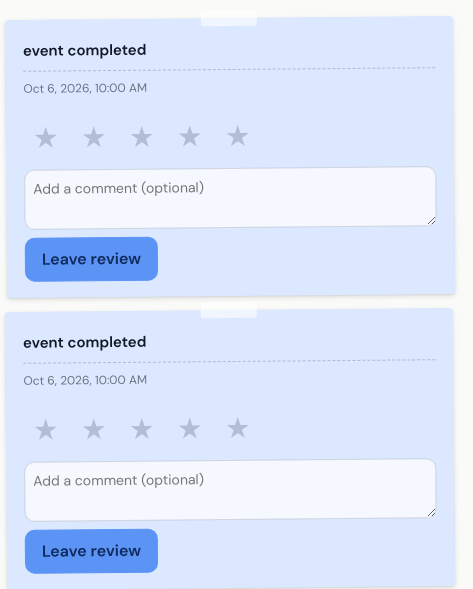
Test: TaskEventMessage › offers both people a review once the gig is complete, comment optional
This screenshot has width=473, height=589.
(page scrolled)
Click the 9th radio button with class "star": (190, 429) [168,407,212,452]
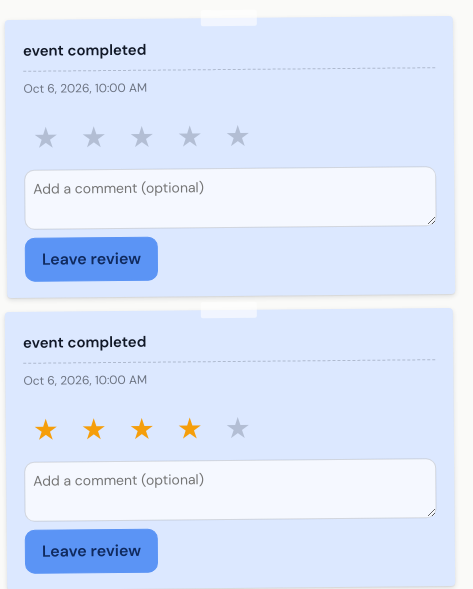
Submit the 2nd form "★ ★ ★ ★ ★ Leave review", box [24,405,437,573]
(page scrolled)
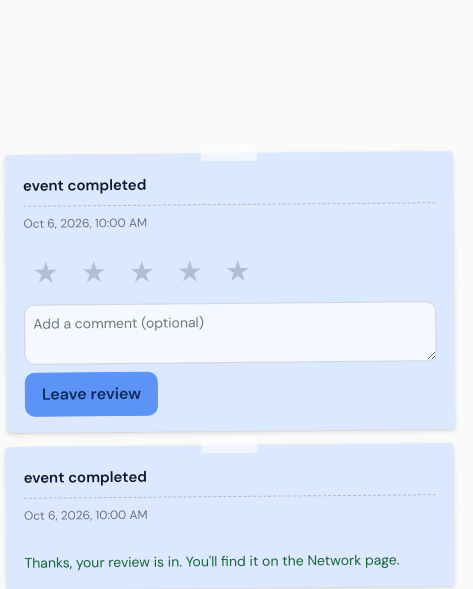
Now the text "your review is in" is shown, box [24,550,400,571]
